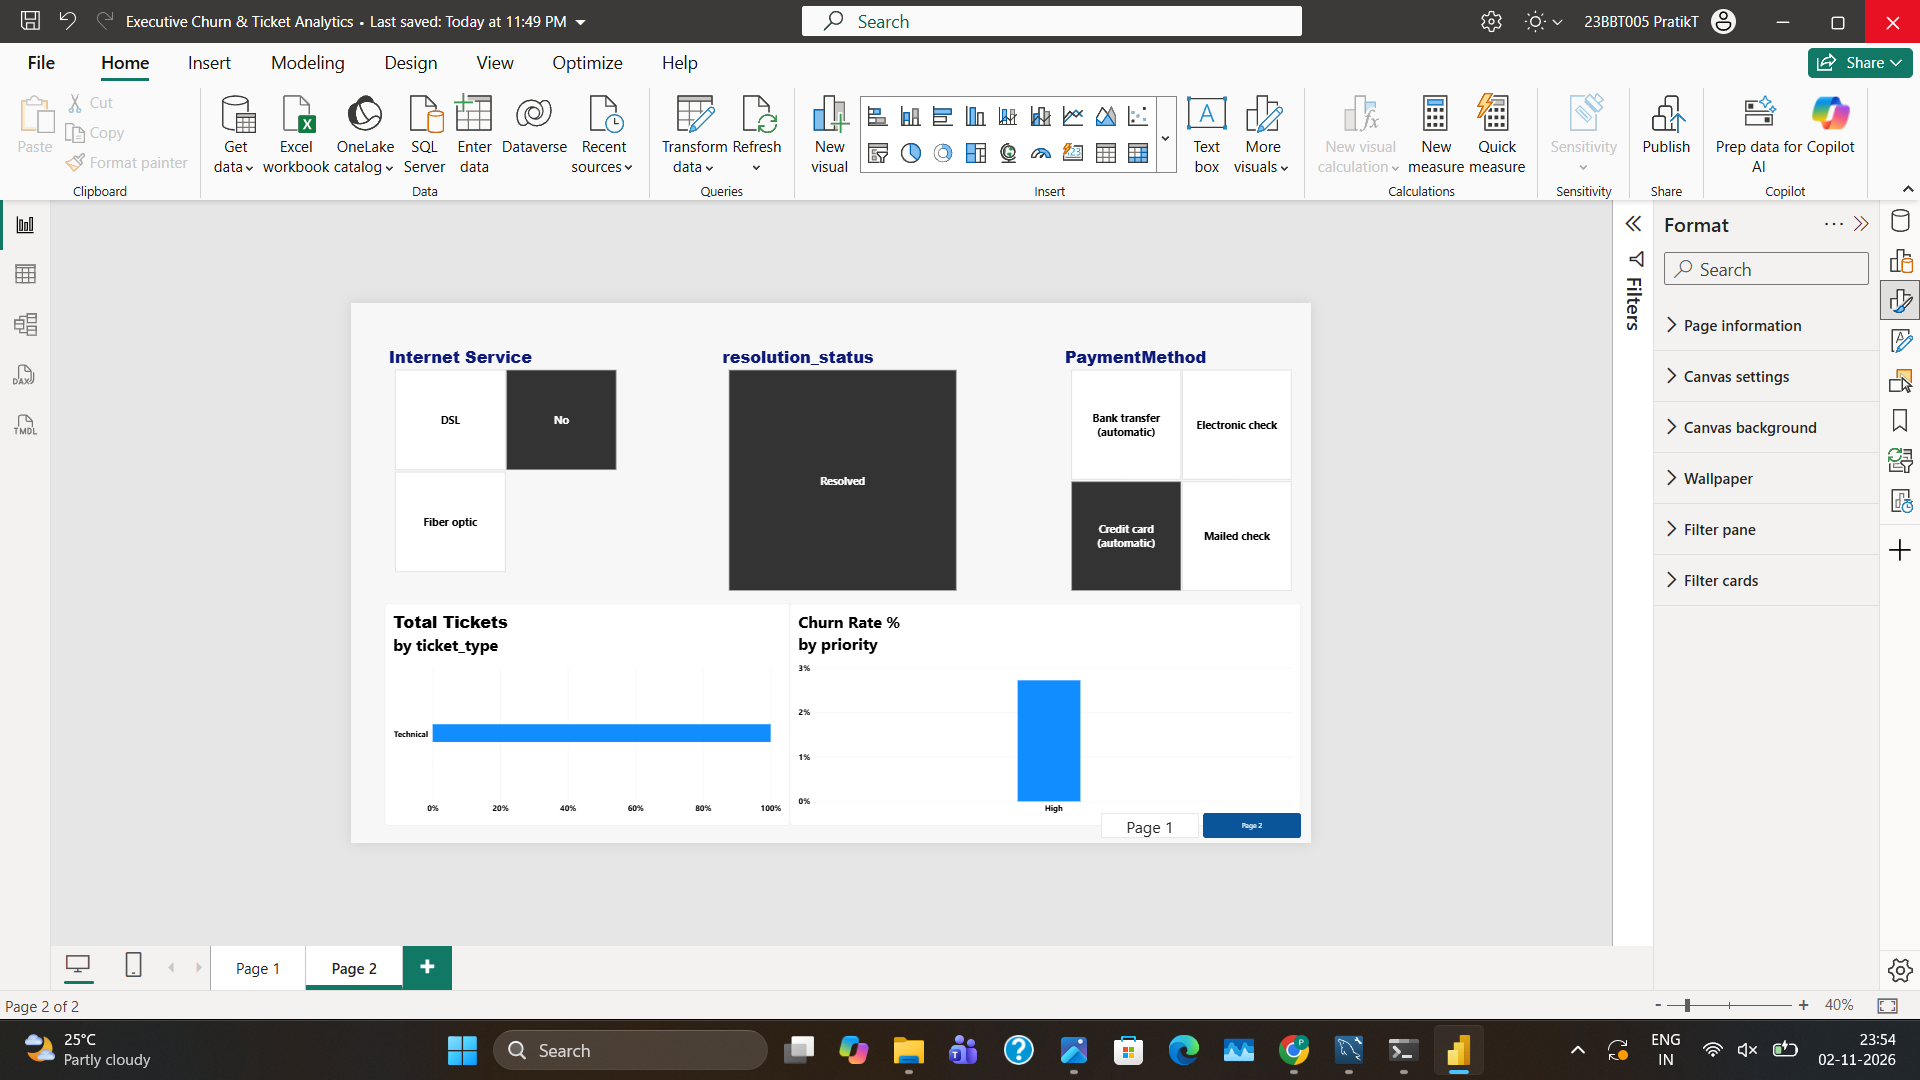

Layout of this report page (visuals, bound fields, positions):
{"tool":"powerbi","page":{"name":"Page 2","canvas":[1920,1080],"ordinal":1},"visuals":[{"type":"clusteredColumnChart","fields":{"Category":["support_tickets.priority"],"Y":["_Key Measures.Churn Rate %"]},"box":[877.5,600,1022.5,445],"z":0},{"type":"hundredPercentStackedBarChart","fields":{"Category":["support_tickets.ticket_type"],"Y":["_Key Measures.Total Tickets"]},"box":[67.5,600,810,445],"z":1000},{"type":"slicer","fields":{"Values":["fact_customer_churn.InternetService"]},"box":[67.5,85,482.5,455],"z":2000},{"type":"slicer","fields":{"Values":["fact_customer_churn.PaymentMethod"]},"box":[1420,85,480,492.5],"z":3000},{"type":"slicer","fields":{"Values":["support_tickets.resolution_status"]},"box":[735,85,495,492.5],"z":4000},{"type":"pageNavigator","box":[1500,1020,400,50],"z":4001}]}

Visuals, with their boxes on the page's 1920x1080 design canvas (x1, y1, x2, y2). These are canvas units, not pixel positions in the 1920x1080 screenshot, which may show the page scaled, cropped or inside an application window:
clusteredColumnChart - support_tickets.priority x _Key Measures.Churn Rate %: 878 600 1900 1045
hundredPercentStackedBarChart - support_tickets.ticket_type x _Key Measures.Total Tickets: 68 600 878 1045
slicer - fact_customer_churn.InternetService: 68 85 550 540
slicer - fact_customer_churn.PaymentMethod: 1420 85 1900 578
slicer - support_tickets.resolution_status: 735 85 1230 578
pageNavigator: 1500 1020 1900 1070
